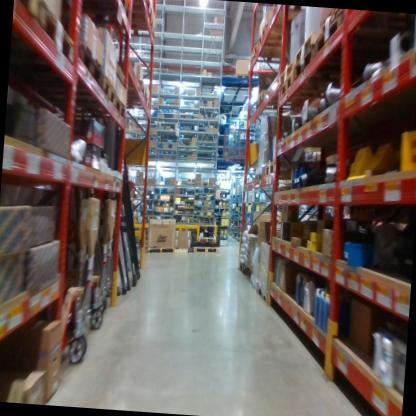pallet: (109, 73, 177, 261), (312, 12, 397, 60), (34, 0, 83, 76), (37, 66, 122, 109), (278, 71, 346, 111), (54, 90, 130, 125), (253, 85, 319, 119), (292, 48, 343, 89), (75, 42, 110, 95), (69, 0, 135, 28), (290, 28, 327, 71), (119, 0, 161, 37), (277, 59, 323, 91), (249, 39, 294, 71), (256, 22, 300, 52), (13, 0, 46, 31), (108, 95, 154, 108), (322, 8, 351, 26), (254, 284, 273, 309), (270, 4, 308, 16), (192, 242, 222, 256), (236, 259, 248, 283), (247, 277, 259, 293), (249, 263, 257, 277)
pallet_truck: (55, 189, 99, 387), (87, 181, 114, 340), (79, 184, 102, 349), (95, 195, 122, 327)
